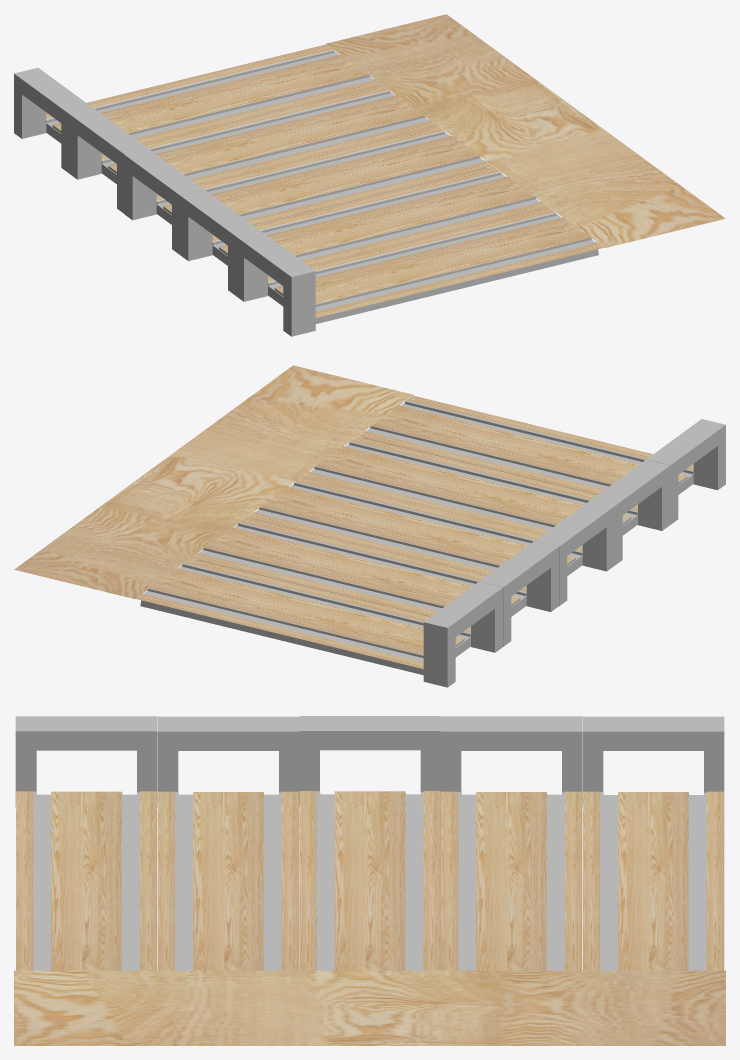
Rendered from bahn.dae.
3 views of the same model, one above another, from view 1: azimuth 30°, elevation 25°; view 2: azimuth 150°, elevation 25°; view 3: azimuth 270°, elevation 25° (orthographic). The views are drawn at different scales.
Parts seen in each view (by area): view 1: vorne, Bahn.004, Bahn.005, Bahn, Bahn.002, Bahn.003, ende.004, Pumpe.004, ende, ende.003, ende.005, ende.002 (+19 smaller); view 2: vorne, Bahn.003, Bahn.005, Bahn.004, Bahn, Bahn.002, ende.003, Pumpe.003, ende.004, ende.002, ende, ende.005 (+19 smaller); view 3: vorne, Bahn, Bahn.004, Bahn.005, Bahn.003, Bahn.002, ende.005, ende.004, ende.003, ende.002, ende, PumpePlane (+19 smaller).
Boxes of the visible parts, x1=… form: vorne: x1=326, y1=14, x2=725, y2=247; Bahn.004: x1=275, y1=217, x2=589, y2=304; Bahn.005: x1=219, y1=176, x2=534, y2=255; Bahn: x1=163, y1=136, x2=478, y2=214; Bahn.002: x1=108, y1=95, x2=423, y2=174; Bahn.003: x1=53, y1=54, x2=367, y2=133; ende.004: x1=236, y1=230, x2=315, y2=336; Pumpe.004: x1=268, y1=212, x2=598, y2=323; ende: x1=124, y1=149, x2=203, y2=254; ende.003: x1=14, y1=67, x2=93, y2=173; ende.005: x1=180, y1=190, x2=259, y2=295; ende.002: x1=69, y1=108, x2=148, y2=213; vorne: x1=14, y1=365, x2=413, y2=598; Bahn.003: x1=150, y1=568, x2=464, y2=655; Bahn.005: x1=316, y1=446, x2=630, y2=525; Bahn.004: x1=372, y1=405, x2=686, y2=484; Bahn: x1=261, y1=487, x2=575, y2=565; Bahn.002: x1=205, y1=527, x2=519, y2=606; ende.003: x1=423, y1=581, x2=503, y2=687; Pumpe.003: x1=140, y1=563, x2=470, y2=675; ende.004: x1=646, y1=419, x2=725, y2=524; ende.002: x1=479, y1=541, x2=558, y2=646; ende: x1=535, y1=500, x2=614, y2=606; ende.005: x1=591, y1=459, x2=670, y2=565; vorne: x1=14, y1=970, x2=725, y2=1045; Bahn: x1=334, y1=791, x2=405, y2=970; Bahn.004: x1=51, y1=791, x2=121, y2=970; Bahn.005: x1=193, y1=792, x2=263, y2=970; Bahn.003: x1=618, y1=792, x2=688, y2=970; Bahn.002: x1=476, y1=792, x2=546, y2=970; ende.005: x1=157, y1=716, x2=299, y2=807; ende.004: x1=15, y1=716, x2=157, y2=806; ende.003: x1=582, y1=716, x2=724, y2=807; ende.002: x1=440, y1=716, x2=582, y2=792; ende: x1=299, y1=716, x2=440, y2=806; PumpePlane: x1=320, y1=794, x2=420, y2=970.
Bounding box in the file's own units: 35.87 × 40 × 4.74.
